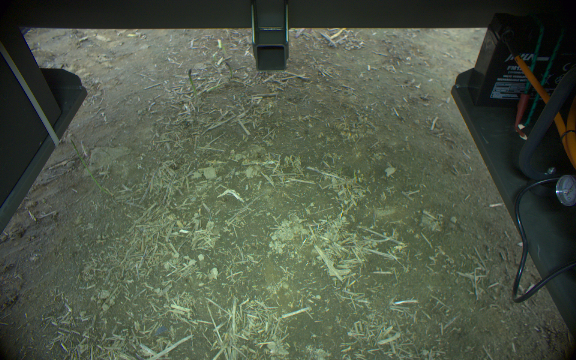aspa: (69, 138, 115, 198), (187, 67, 198, 103), (206, 81, 225, 96), (224, 59, 232, 79)
